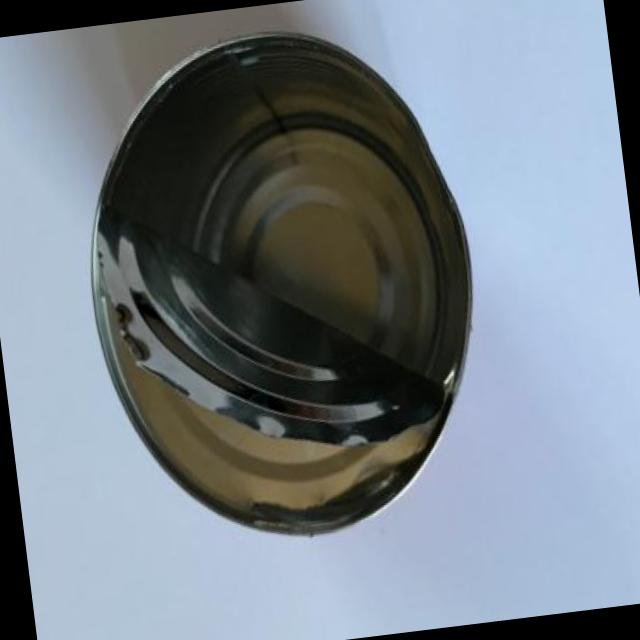kim_loai: (91, 32, 470, 532)
